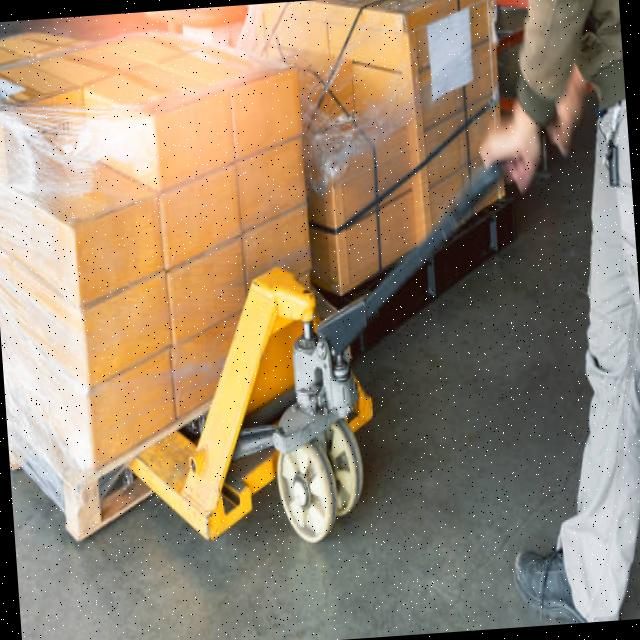Wooden-Pallets: (7, 413, 155, 551)
